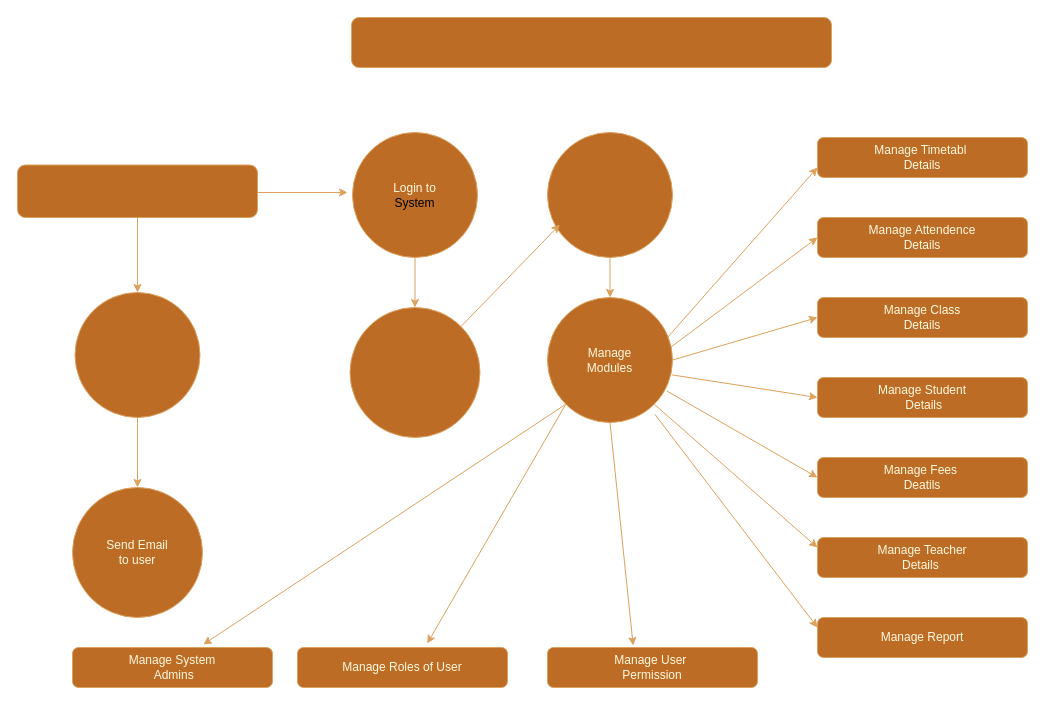
Some shapes in this 1045 by 705 pixel diagram are drawn without their labels. The centre of each missing label's shape, as x and y in pixels:
"Admin" belongs at [137,191].
"Check credentials" belongs at [414,372].
"Check Roles of Access" belongs at [609,195].
"Forgot Password" belongs at [137,355].
"Student Information system" belongs at [591,42].
